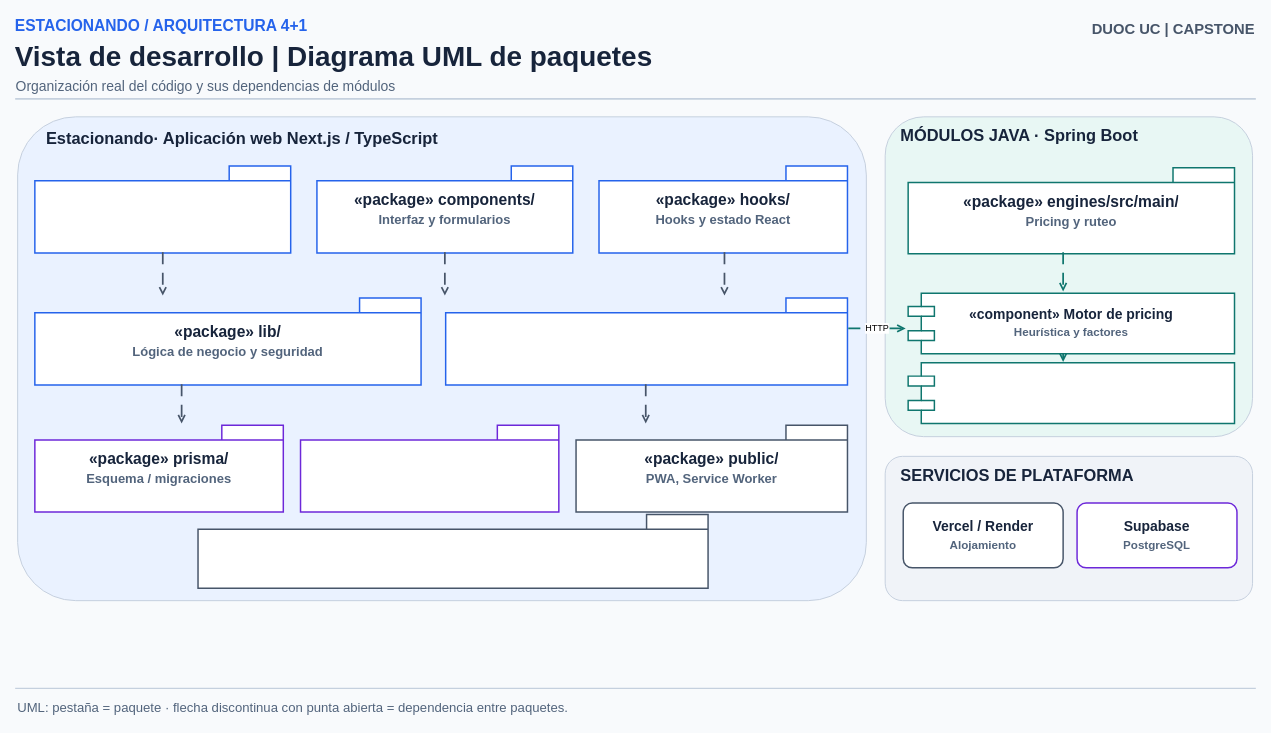
The diagram is 1271 pixels wide and 733 high, and some of its shapes have lost their labels. Each missing label, with the centre of its shape:
"«component» Motor de ruteo Integración Mapbox" belongs at point (1071, 393).
"«package» .github/workflows/ Integración continua / pruebas" belongs at point (452, 551).
"«package» app/ Rutas y Server Actions" belongs at point (162, 209).
"«package» lib/engines/ Cliente HTTP de motores Java" belongs at point (646, 341).
"«package» tests/ Vitest y validaciones" belongs at point (429, 468).
